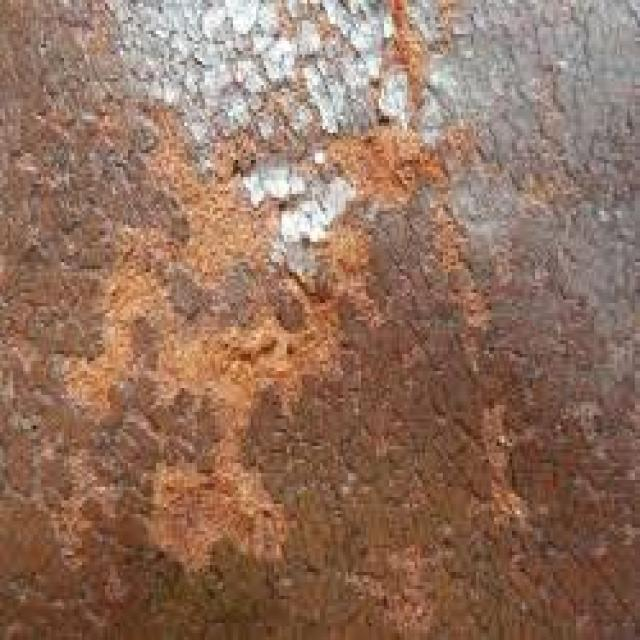Rotten surface: (102, 308, 336, 538), (168, 145, 486, 290)
